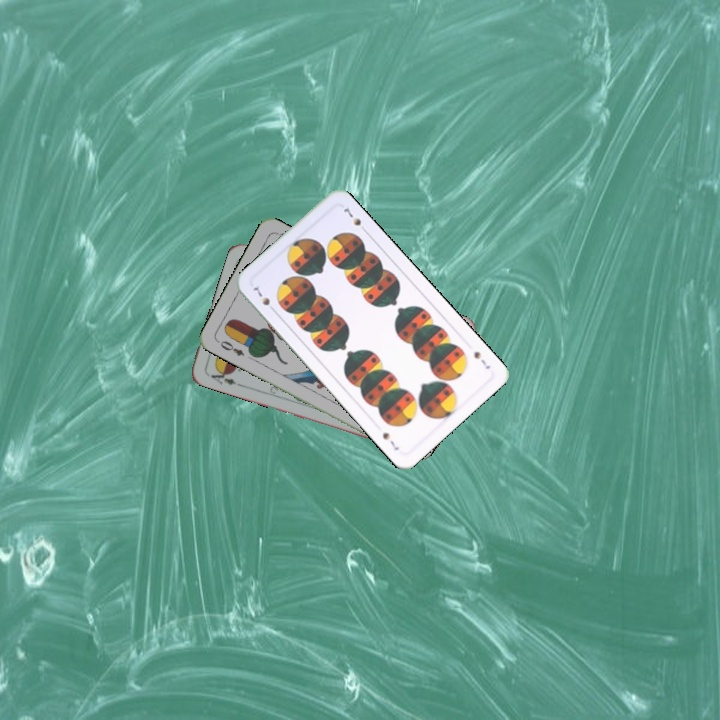EA: (206, 365, 243, 389)
EO: (213, 336, 247, 359)
S7: (249, 283, 279, 315), (470, 347, 493, 372)
